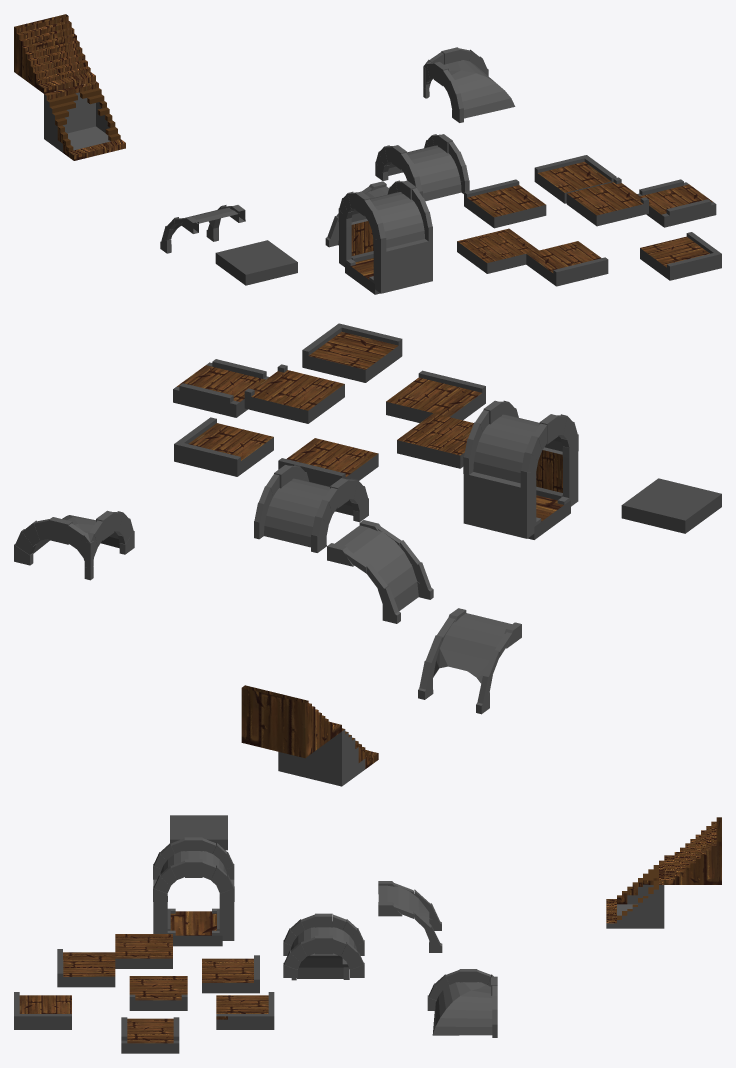
Rendered from CastleCorridor.fbx.
3 views of the same model, one above another, from view 1: azimuth 30°, elevation 25°; view 2: azimuth 150°, elevation 25°; view 3: azimuth 270°, elevation 25° (orthographic). The views are drawn at different scales.
Visible parts, largest first — view 1: Cube.014, Cube.013, CorridorCeiling.Forward.007, CorridorCeiling.Forward.006, CorridorCeiling.Forward.005, CorridorFloor.Side, Wall.011, CorridorFloor.TurnL, CorridorFloor.Exit, CorridorFloor.Side.001, CorridorFloor.Middle.003, CorridorFloor.Forward (+6 smaller); view 2: CorridorCeiling.Forward.007, CorridorCeiling.Forward.006, CorridorCeiling.Forward.015, CorridorCeiling.Forward.013, Cube.013, CorridorCeiling.Forward.005, CorridorFloor.TurnL, Wall.010, CorridorFloor.TurnR, CorridorFloor.Exit, CorridorFloor.Middle.003, CorridorFloor.Side.001 (+6 smaller); view 3: CorridorCeiling.Forward.005, CorridorCeiling.Forward.006, CorridorCeiling.Forward.007, Cube.014, Cube.013, CorridorCeiling.Forward.013, CorridorFloor.Side.001, CorridorFloor.Forward, CorridorFloor.Side, CorridorFloor.TurnR, CorridorFloor.Exit, CorridorFloor.TurnL (+6 smaller).
Part boxes in pixels (x1,y1,x2,y2): Cube.014: (44, 81, 125, 160); Cube.013: (14, 14, 95, 93); CorridorCeiling.Forward.007: (338, 180, 432, 252); CorridorCeiling.Forward.006: (375, 134, 469, 201); CorridorCeiling.Forward.005: (423, 47, 515, 122); CorridorFloor.Side: (464, 179, 546, 228); Wall.011: (369, 239, 432, 293); CorridorFloor.TurnL: (640, 232, 721, 280); CorridorFloor.Exit: (566, 177, 648, 226); CorridorFloor.Side.001: (526, 241, 608, 286); CorridorFloor.Middle.003: (215, 240, 297, 285); CorridorFloor.Forward: (637, 179, 716, 227); CorridorCeiling.Forward.007: (463, 400, 578, 488); CorridorCeiling.Forward.006: (254, 465, 368, 552); CorridorCeiling.Forward.015: (327, 520, 433, 623); CorridorCeiling.Forward.013: (418, 608, 521, 714); Cube.013: (241, 685, 341, 758); CorridorCeiling.Forward.005: (14, 510, 134, 580); CorridorFloor.TurnL: (302, 323, 402, 382); Wall.010: (463, 472, 541, 538); CorridorFloor.TurnR: (174, 417, 273, 476); CorridorFloor.Exit: (244, 364, 344, 423); CorridorFloor.Middle.003: (621, 478, 721, 533); CorridorFloor.Side.001: (386, 370, 485, 422); CorridorCeiling.Forward.005: (427, 969, 497, 1037); CorridorCeiling.Forward.006: (283, 913, 364, 977); CorridorCeiling.Forward.007: (153, 837, 234, 901); Cube.014: (606, 860, 664, 928); Cube.013: (664, 817, 721, 884); CorridorCeiling.Forward.013: (378, 881, 442, 952); CorridorFloor.Side.001: (57, 949, 115, 987); CorridorFloor.Forward: (121, 1017, 179, 1053); CorridorFloor.Side: (202, 955, 259, 993); CorridorFloor.TurnR: (216, 992, 274, 1029); CorridorFloor.Exit: (129, 976, 187, 1010); CorridorFloor.TurnL: (14, 992, 71, 1029).
Bounding box in the file's own units: 3422 × 952 × 4895.
